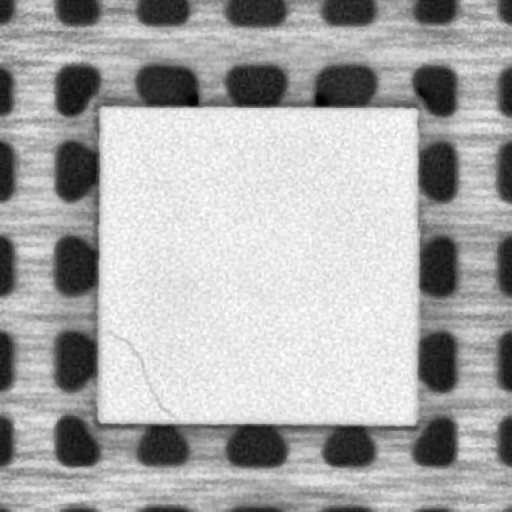DIE_CRACK: (107, 326, 168, 412)
